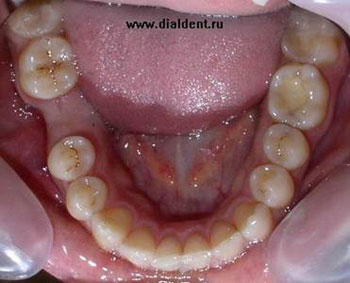LL1BC_healthy: (250, 165, 295, 207)
LL1M_healthy: (268, 62, 328, 126)
LL2BC_healthy: (265, 124, 309, 168)
LL2M_healthy: (286, 12, 338, 61)
LLCI_healthy: (183, 232, 210, 272)
LLC_healthy: (235, 200, 272, 238)
LLLI_healthy: (207, 222, 243, 260)
LR1BC_healthy: (66, 179, 109, 216)
LR2BC_decay: (44, 138, 97, 178)
LR2M_decay: (16, 35, 78, 98)
LRCI_healthy: (155, 233, 182, 271)
LRC_healthy: (93, 206, 131, 244)
LRLI_healthy: (127, 227, 155, 267)
